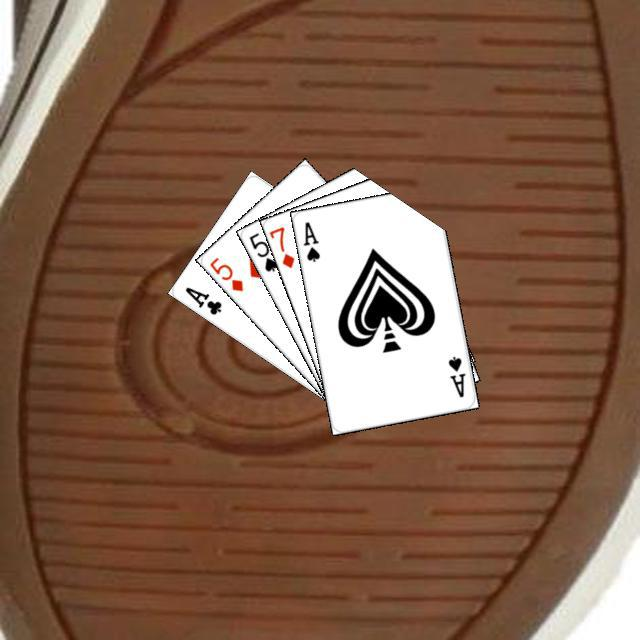5d: (205, 252, 245, 293)
5s: (244, 227, 280, 273)
7d: (265, 222, 296, 270)
Ac: (180, 282, 223, 317)
As: (443, 351, 467, 399), (298, 217, 321, 264)
